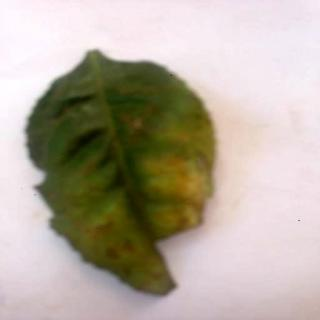Brown Blight: (29, 49, 218, 299)
